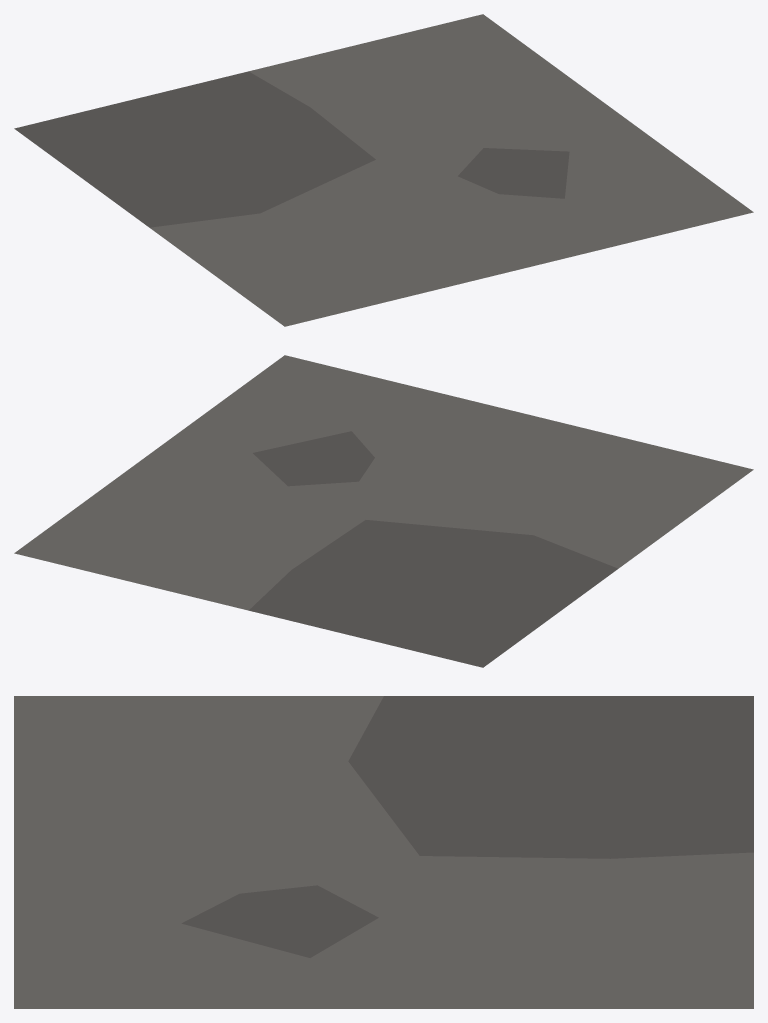
File: AI_Env_Floor_01_Stained_03.fbx
3 renders of one model, top to bottom at view 1: azimuth 30°, elevation 25°; view 2: azimuth 150°, elevation 25°; view 3: azimuth 270°, elevation 25°, orthographic. The views are drawn at different scales.
Parts seen in each view (by area): view 1: AI_Env_Floor_01_Stained_03; view 2: AI_Env_Floor_01_Stained_03; view 3: AI_Env_Floor_01_Stained_03.
Part boxes in pixels (left/top/right/bottom): AI_Env_Floor_01_Stained_03: left=14, top=14, right=753, bottom=326; AI_Env_Floor_01_Stained_03: left=14, top=355, right=753, bottom=667; AI_Env_Floor_01_Stained_03: left=14, top=696, right=753, bottom=1008.
Bounding box in the file's own units: 5 × 0 × 5.
